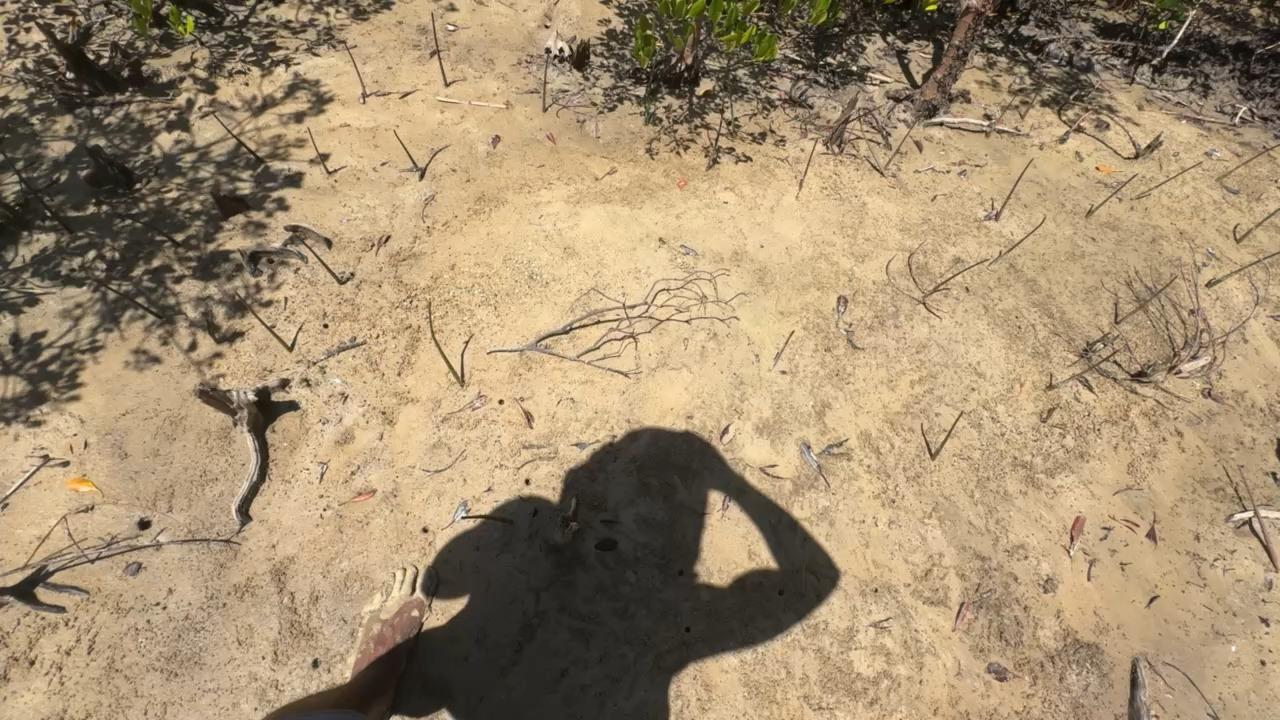Tree: (3, 152, 73, 235), (226, 281, 293, 353), (279, 221, 345, 285), (83, 267, 165, 316), (210, 106, 272, 170), (981, 211, 1050, 267), (1045, 347, 1122, 391), (426, 299, 464, 388), (1131, 160, 1206, 204), (1117, 274, 1179, 325), (922, 258, 992, 299), (995, 156, 1037, 223), (1207, 251, 1280, 289), (881, 111, 928, 170), (1214, 141, 1280, 182), (1089, 172, 1144, 216), (787, 136, 823, 198), (857, 106, 886, 181), (1237, 206, 1280, 244), (933, 410, 965, 459), (429, 10, 448, 87), (1021, 71, 1048, 121), (343, 39, 367, 94), (306, 125, 331, 175), (392, 128, 419, 170), (994, 91, 1018, 124), (542, 46, 553, 114)
